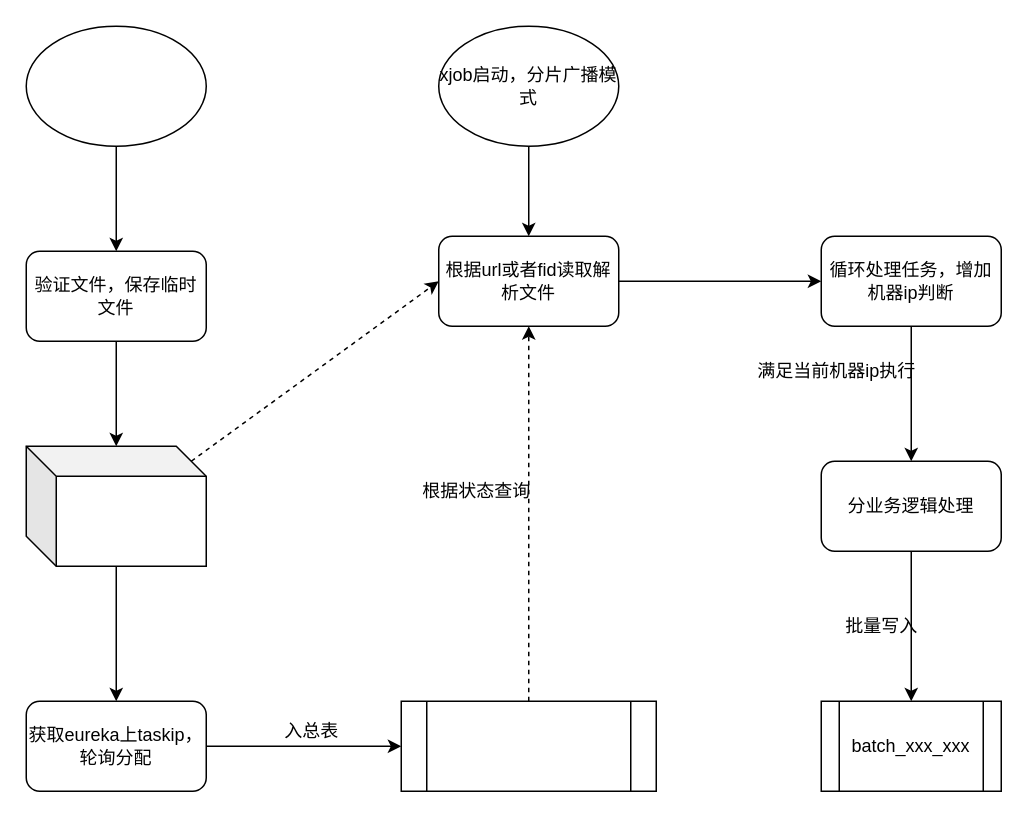
This 1028x818 diagram has some shape labels left out. Here are the shapes that lost their labels. From the top down, the centre of each, then its label:
the point at 115,85: boss上传excel
the point at 115,505: oss存储
the point at 528,745: batch_operate_upload
